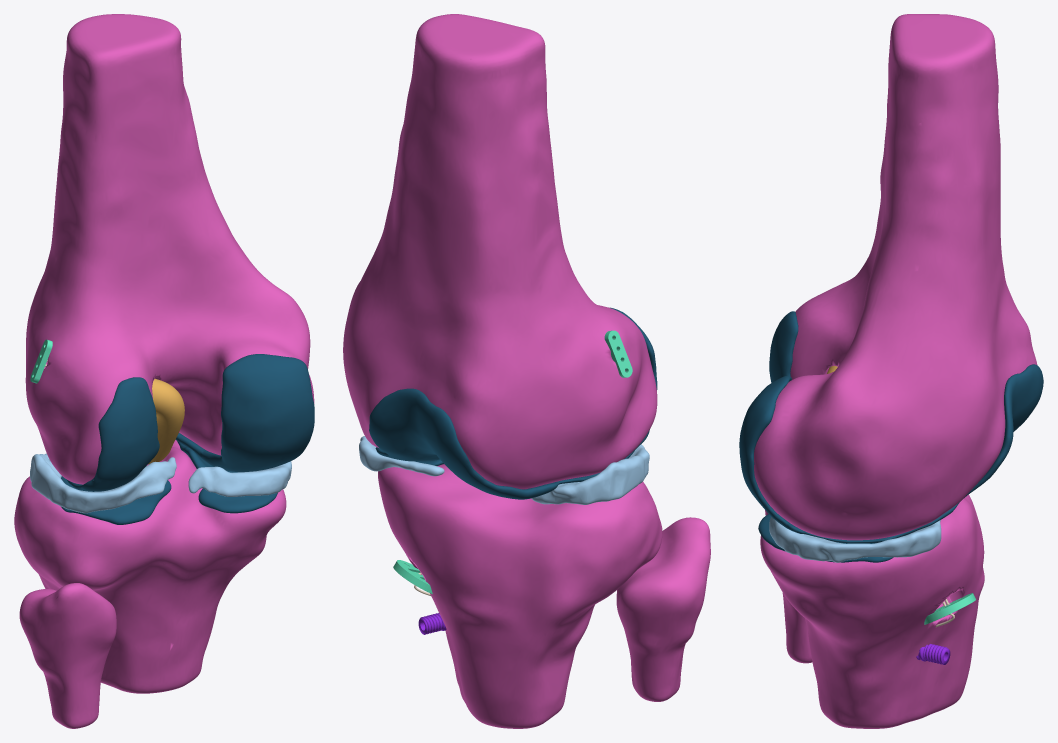
File: acl-quad.glb
3 views of the same model, side by side, from view 1: azimuth 30°, elevation 25°; view 2: azimuth 150°, elevation 25°; view 3: azimuth 270°, elevation 25° (orthographic). The views are drawn at different scales.
Visible parts, largest first — view 1: x Femur breached, x Tibia, x Femoral cartilage, x Fibula, x Lateral meniscus, x Medial meniscus, x Quad graft #0, x Medial tibial cartilage, x Lateral tibial cartilage; view 2: x Femur breached, x Tibia, x Fibula, x Femoral cartilage, x Lateral meniscus, x Medial meniscus, x FiberTag TightRope button #0; view 3: x Femur breached, x Tibia, x Femoral cartilage, x Medial meniscus, x Fibula, x Medial tibial cartilage, x ABS button 14 mm #0, x AlphaVent 4.75 #0.
Part boxes in pixels (x1,y1,x2,y2): x Femur breached: (25, 14, 314, 484); x Tibia: (14, 440, 286, 693); x Femoral cartilage: (66, 354, 314, 491); x Fibula: (19, 583, 116, 728); x Lateral meniscus: (30, 453, 176, 513); x Medial meniscus: (188, 461, 291, 496); x Quad graft #0: (148, 378, 184, 464); x Medial tibial cartilage: (177, 441, 277, 513); x Lateral tibial cartilage: (61, 476, 171, 524); x Femur breached: (343, 14, 657, 489); x Tibia: (378, 464, 662, 728); x Fibula: (616, 517, 710, 701); x Femoral cartilage: (369, 307, 657, 499); x Lateral meniscus: (531, 444, 649, 504); x Medial meniscus: (359, 436, 444, 476); x FiberTag TightRope button #0: (604, 330, 632, 377); x Femur breached: (754, 14, 1037, 540); x Tibia: (760, 494, 984, 728); x Femoral cartilage: (739, 311, 1043, 543); x Medial meniscus: (769, 516, 941, 562); x Fibula: (765, 510, 812, 663); x Medial tibial cartilage: (758, 514, 908, 562); x ABS button 14 mm #0: (924, 593, 975, 624); x AlphaVent 4.75 #0: (916, 644, 950, 664).
Size of the model in its own units: 88.36 by 180 by 73.21.
